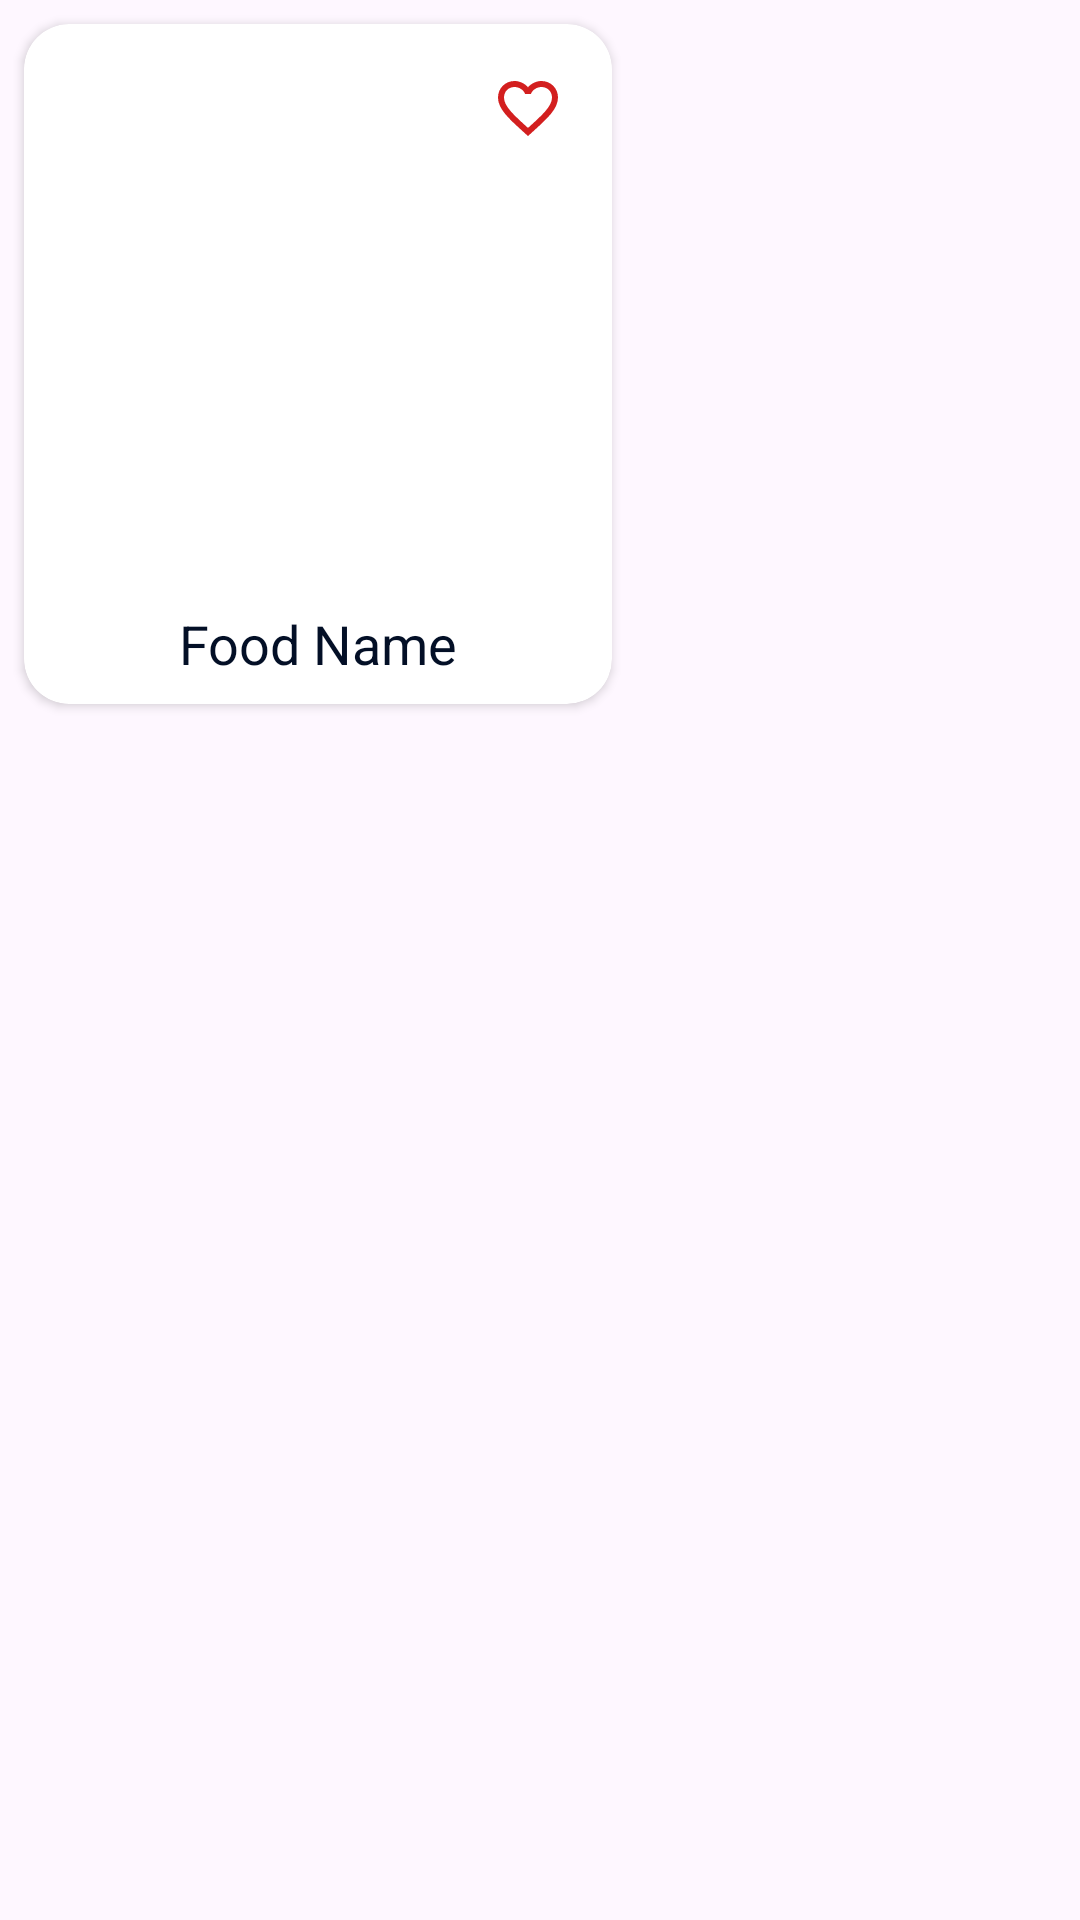

Screen size 1080 × 1920. Icon name, then its center in pixels as (x,y):
favorite: (528,108)
